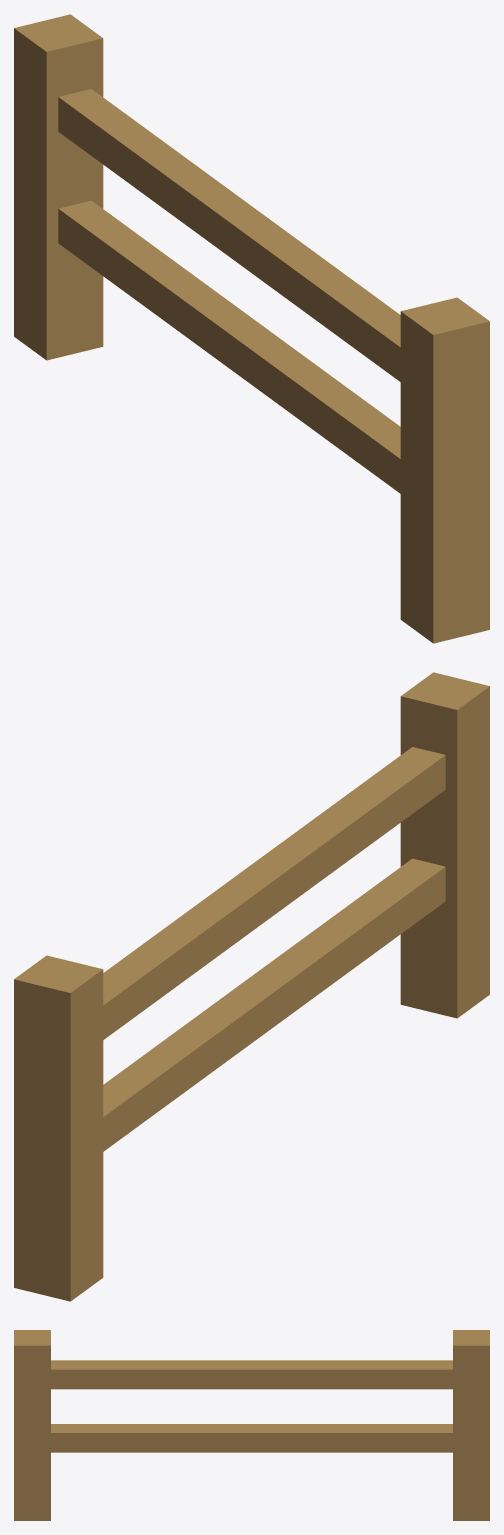
File: целый.fbx
3 renders of one model, top to bottom at view 1: azimuth 30°, elevation 25°; view 2: azimuth 150°, elevation 25°; view 3: azimuth 270°, elevation 25°, orthographic. The views are drawn at different scales.
Visible parts, largest first — view 1: Cube, Cube.001, Cube.002, Cube.003; view 2: Cube.001, Cube, Cube.002, Cube.003; view 3: Cube.003, Cube.002, Cube, Cube.001.
Boxes of the visible parts, x1,y1,x2,y2 form: Cube: (400,297,489,643); Cube.001: (14,14,103,360); Cube.002: (58,200,400,493); Cube.003: (58,89,400,381); Cube.001: (14,955,103,1301); Cube: (400,672,489,1018); Cube.002: (103,858,445,1151); Cube.003: (103,747,445,1039); Cube.003: (51,1360,452,1389); Cube.002: (51,1424,452,1452); Cube: (14,1330,50,1520); Cube.001: (453,1330,489,1520).
Bounding box in the file's own units: 36.16 × 188 × 464.
